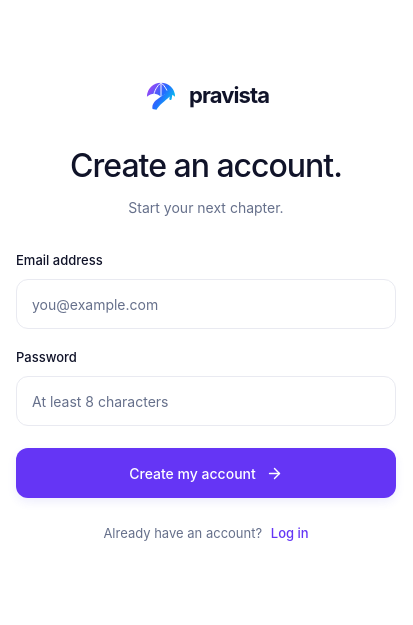
Test case: authentication leads to the main page › stays on the form when account confirmation is still required
The width and height of the screenshot is (413, 625).
Type "test@example.invalid" into the field labelled "Email address" at (206, 304), box left=16, top=279, right=396, bottom=329
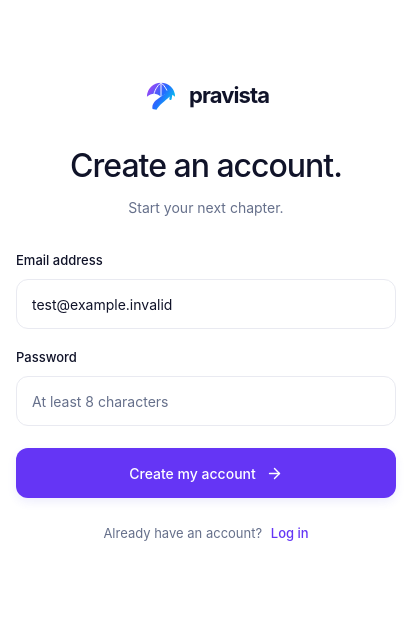
Type "test-password" into the password field labelled "Password" at (206, 402), box left=16, top=376, right=396, bottom=426
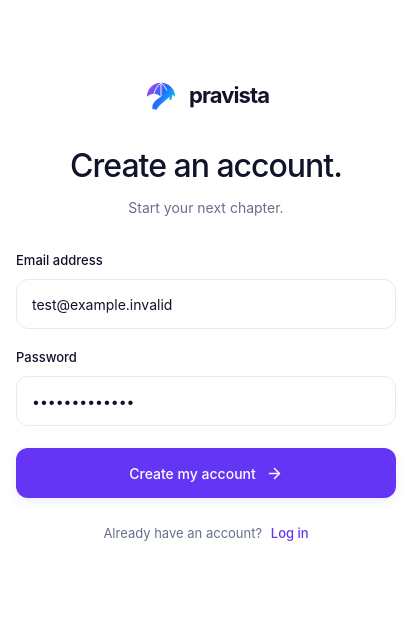
Click the button "Create my account" at (206, 474), box left=16, top=448, right=396, bottom=498
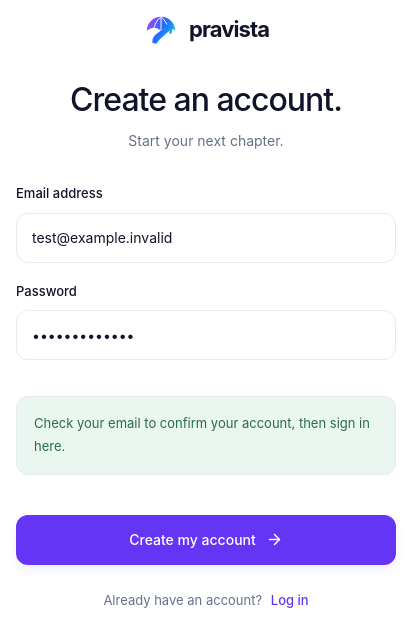
Result: the message "Check your email to confirm your account, then sign in here." is shown at left=16, top=396, right=396, bottom=475
Result: the message shows "Check your email" at left=34, top=415, right=370, bottom=454
